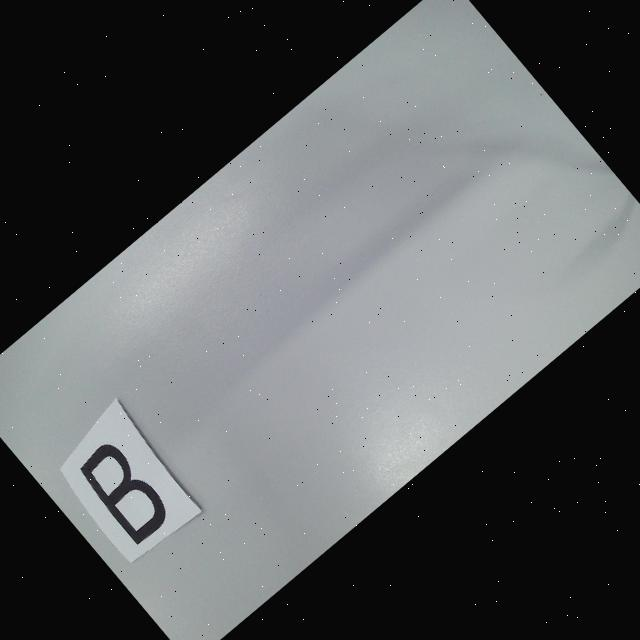FAKE: (73, 436, 175, 546)
